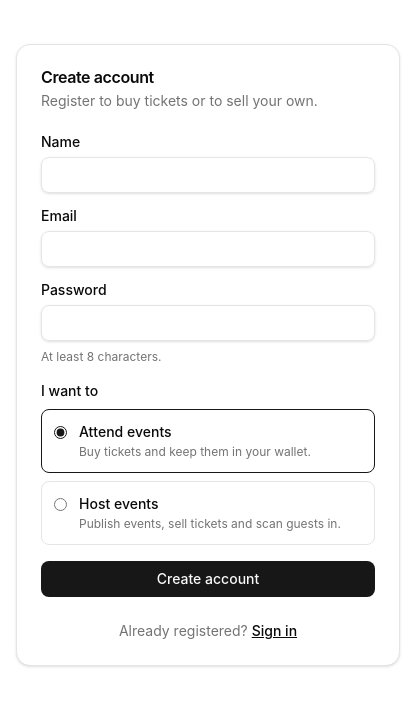
Test: RegisterPage › reports a failed organizer promotion instead of pretending it worked
Click the radio button labelled "Host events Publish events, sell tickets and scan guests in.": [60, 504] box [54,498,67,511]
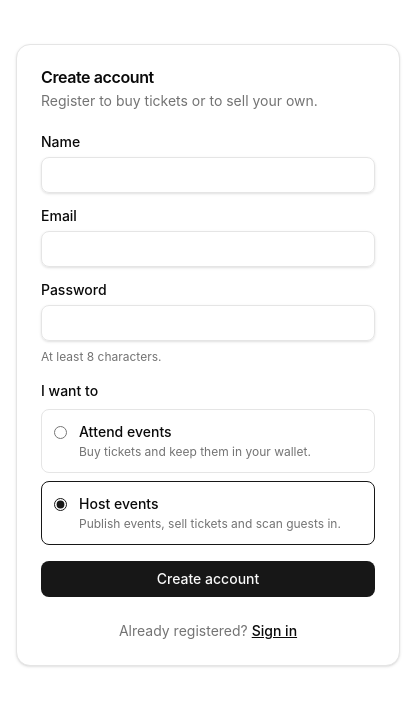
In the field with id "name": [208, 175] box [41,157,375,193], type "Dora Klein"
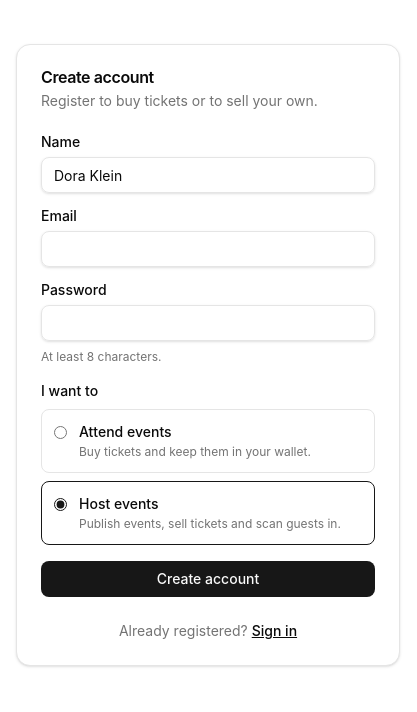
In the field with id "email": [208, 249] box [41,231,375,267], type "dora@example.com"
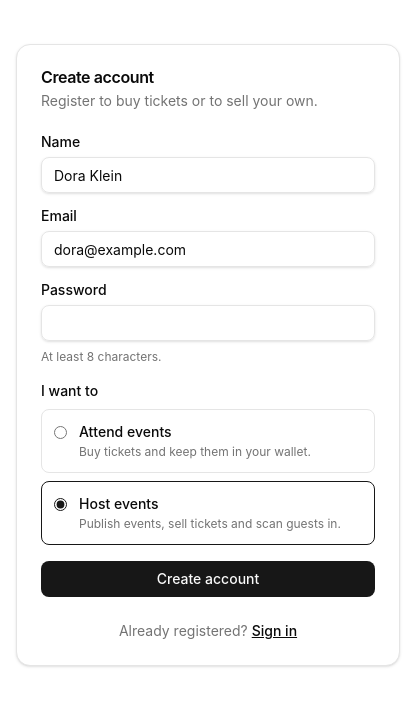
In the password field labelled "Password": [208, 323] box [41,305,375,341], type "user12345"
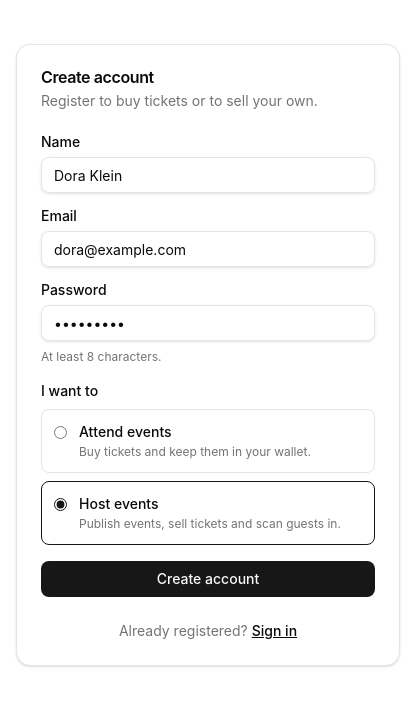
Submit the form, box [41,135,375,597]
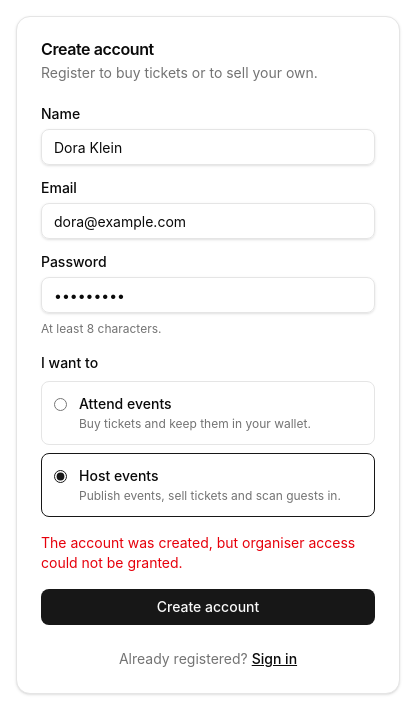
Check: the text "organiser access could not be granted" is shown, box [41,534,355,571]
